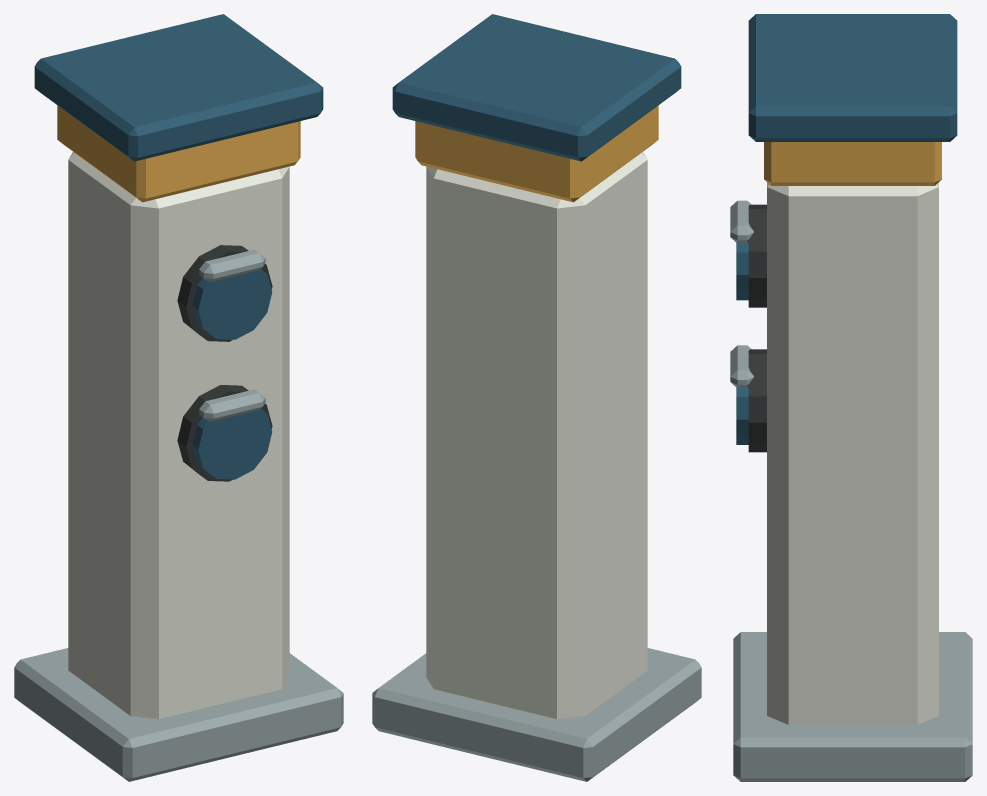
Rendered from power_pedestal.glb.
3 views of the same model, side by side, from view 1: azimuth 30°, elevation 25°; view 2: azimuth 150°, elevation 25°; view 3: azimuth 270°, elevation 25° (orthographic). The views are drawn at different scales.
Parts seen in each view (by area): view 1: power_pedestal; view 2: power_pedestal; view 3: power_pedestal.
Boxes of the visible parts, bbox=[...] form: power_pedestal: bbox=[14, 14, 343, 781]; power_pedestal: bbox=[372, 14, 701, 781]; power_pedestal: bbox=[730, 14, 972, 781].
Bounding box in the file's own units: 0.43 × 1.2 × 0.395.
